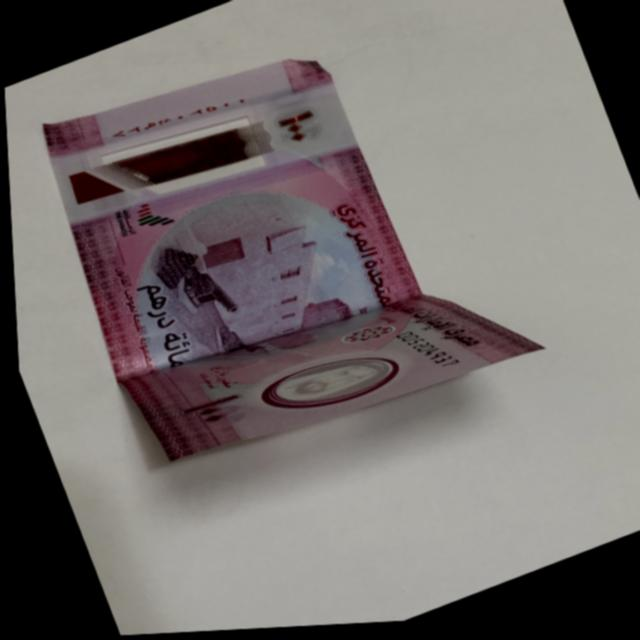100_AED: (37, 52, 560, 479)
